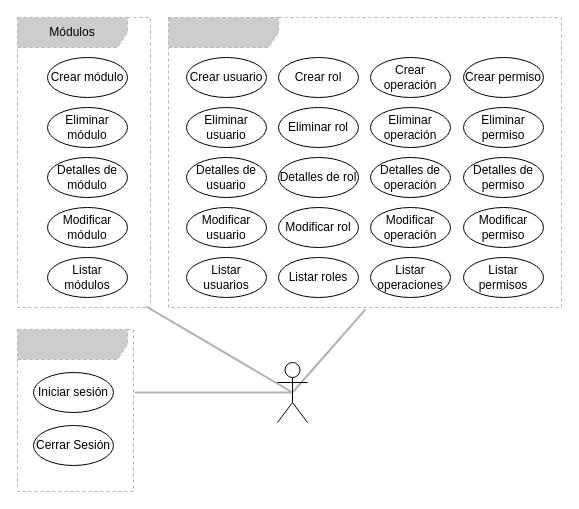
Some shapes in this 579 by 509 pixel diagram are drawn without their labels. Each missing label, with the box of its shape:
Acceso: (16, 328, 134, 492)
Sub-módulos: (168, 16, 562, 308)
Usuario: (276, 362, 308, 422)
